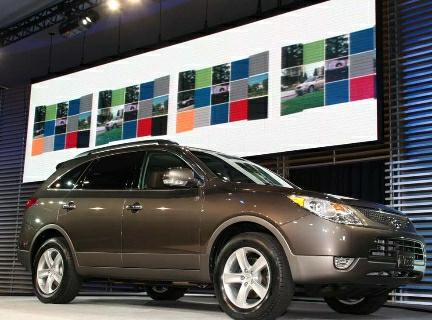car: (9, 134, 432, 319)
